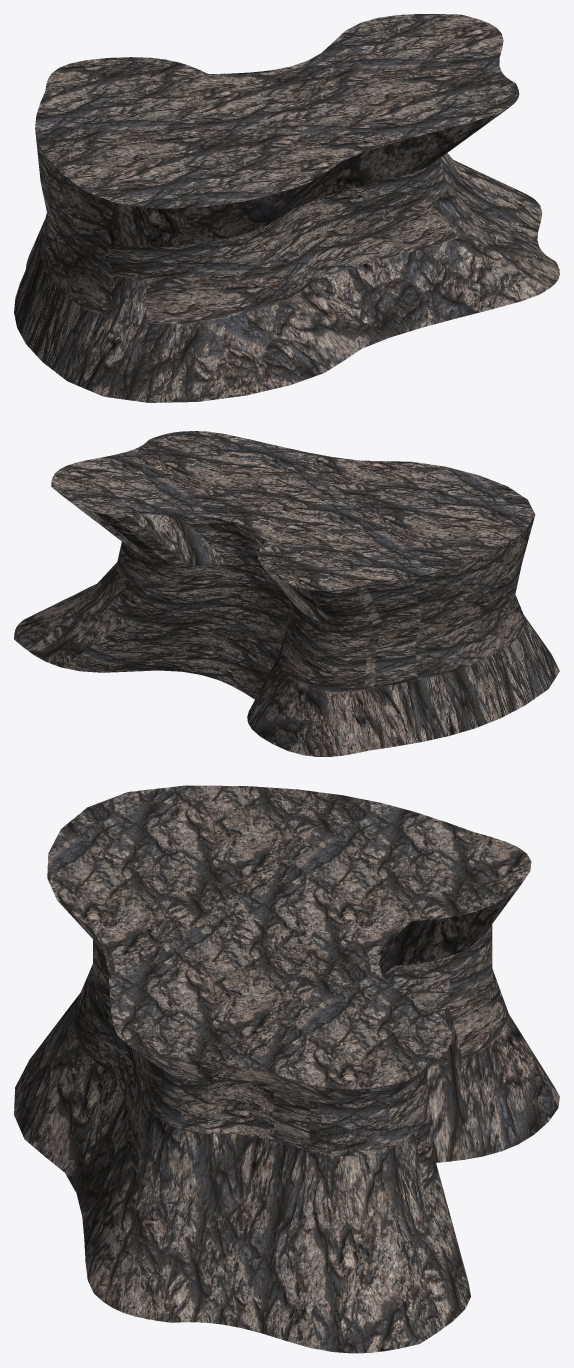
Rendered from rock2.FBX.
3 renders of one model, top to bottom at view 1: azimuth 30°, elevation 25°; view 2: azimuth 150°, elevation 25°; view 3: azimuth 270°, elevation 25°, orthographic. The views are drawn at different scales.
Parts seen in each view (by area): view 1: Line001; view 2: Line001; view 3: Line001.
Part boxes in pixels (x1,y1,x2,y2): Line001: (14,14,559,402); Line001: (14,431,559,756); Line001: (14,785,559,1353).
Bounding box in the file's own units: 1849 × 600 × 1244.
1 material, 1 textured.
